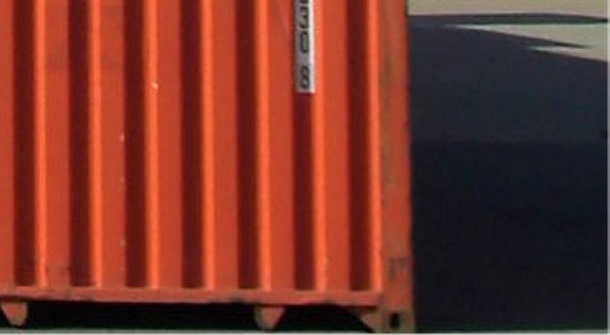container_no_door: (2, 1, 413, 335)
